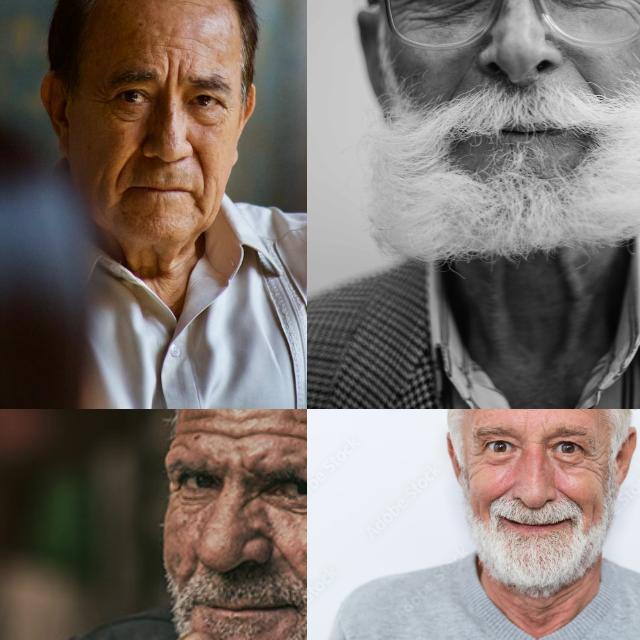bunny_line: (238, 486, 258, 510)
crows_feet: (393, 0, 429, 19), (94, 86, 110, 110), (467, 442, 483, 463), (585, 448, 601, 468)
forehead: (177, 409, 224, 440), (274, 417, 307, 458), (231, 409, 264, 446)
frown_line: (161, 58, 185, 96)
gummy_smile: (572, 61, 608, 101), (110, 138, 138, 182), (447, 56, 469, 106), (190, 144, 212, 190), (490, 482, 514, 502), (558, 486, 580, 504)
masseter: (91, 162, 109, 208)
sad_smile: (185, 189, 208, 217)
